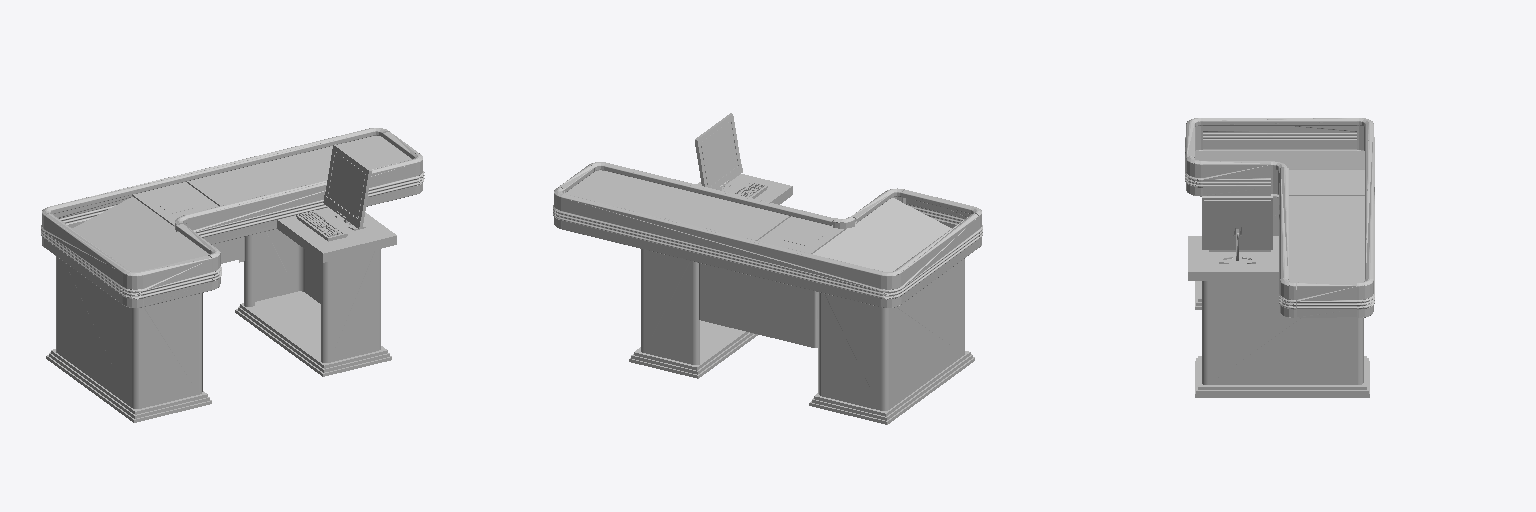
File: grocery checking.obj
3 views of the same model, side by side, from view 1: azimuth 30°, elevation 25°; view 2: azimuth 150°, elevation 25°; view 3: azimuth 270°, elevation 25° (orthographic).
Visible parts, largest first — view 1: Caisse_epicerie; view 2: Caisse_epicerie; view 3: Caisse_epicerie.
Boxes of the visible parts, box(x1,y1,x2,y2) form: Caisse_epicerie: box(41, 128, 424, 422); Caisse_epicerie: box(553, 113, 982, 424); Caisse_epicerie: box(1185, 118, 1374, 397).
Size of the model in its own units: 20.95 by 11.03 by 9.93.